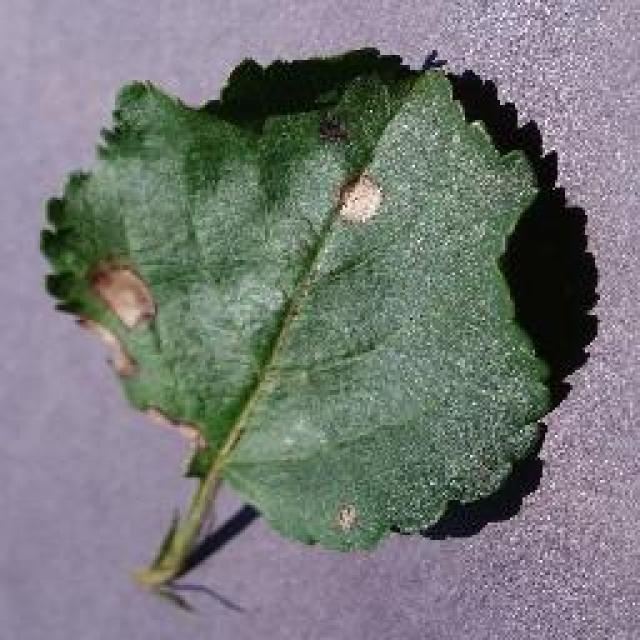Apple___Black_rot: (36, 56, 557, 559)
